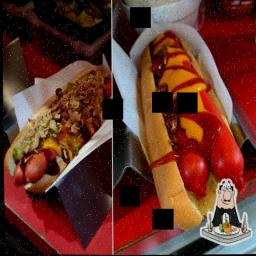hotdog: (138, 9, 252, 233), (1, 65, 114, 201)
